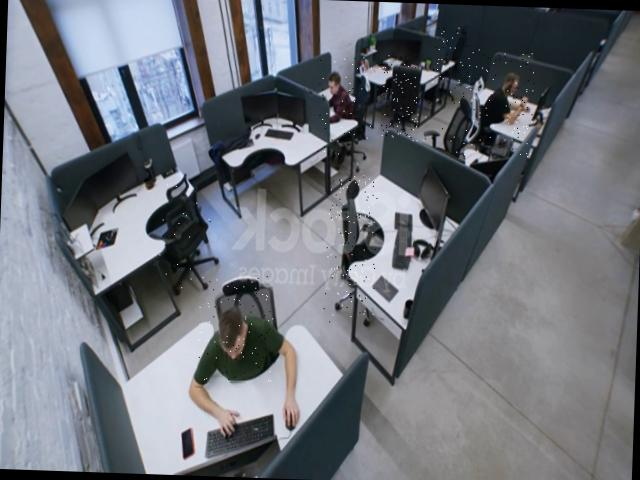empty chair: (322, 174, 378, 324), (158, 167, 212, 298), (381, 55, 422, 141), (430, 26, 468, 109), (421, 100, 474, 156)
occupiedchair: (197, 271, 277, 384), (464, 49, 536, 157), (317, 56, 373, 156)
